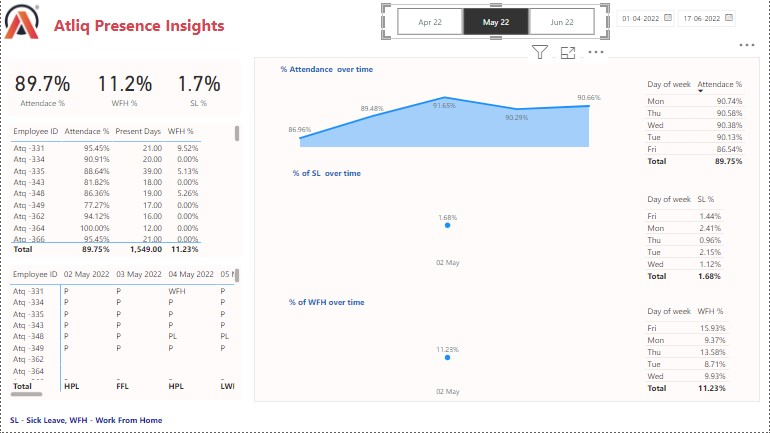

What the dashboard file says about the page in this screenshot:
{"tool":"powerbi","page":{"name":"Presence Insights","canvas":[1280,720],"ordinal":0},"visuals":[{"type":"card","fields":{"Values":["Measure Table.Attendace %"]},"box":[8.3,95,121.7,96.7],"z":0},{"type":"image","box":[0,0,70,71],"z":1000},{"type":"textbox","box":[70.3,0,320.1,71.1],"z":2000},{"type":"card","fields":{"Values":["Measure Table.WFH %"]},"box":[145,95,121.7,96.7],"z":3000},{"type":"card","fields":{"Values":["Measure Table.SL %"]},"box":[268.3,95,121.7,96.7],"z":4000},{"type":"tableEx","fields":{"Values":["Final Data.Employee ID","Measure Table.Attendace %","Measure Table.Present Days","Measure Table.WFH %"]},"box":[10,203.3,393.3,225],"z":5000},{"type":"pivotTable","fields":{"Rows":["Final Data.Employee ID"],"Columns":["Final Data.Date"],"Values":["Min(Final Data.Value)"]},"box":[10,441.7,393.3,225],"z":7000},{"type":"textbox","box":[10,686.7,288.3,28.3],"z":8000},{"type":"areaChart","fields":{"Category":["Final Data.WeekNo","Final Data.Date"],"Y":["Measure Table.Attendace %"]},"box":[445,143.3,588.3,106.7],"z":9000},{"type":"areaChart","fields":{"Category":["Final Data.MMM YY","Final Data.Date"],"Y":["Measure Table.SL %"]},"box":[445,301.7,588.3,153.3],"z":10000},{"type":"areaChart","fields":{"Category":["Final Data.MMM YY","Final Data.Date"],"Y":["Measure Table.WFH %"]},"box":[445,516.7,588.3,153.3],"z":11000},{"type":"textbox","box":[445,101.7,191.7,26.7],"z":12000},{"type":"textbox","box":[445,275,191.7,26.7],"z":13000},{"type":"textbox","box":[445,490,191.7,26.7],"z":14000},{"type":"tableEx","fields":{"Values":["Final Data.Day","Measure Table.Attendace %"]},"box":[1066.7,125,198.3,163.3],"z":15000},{"type":"tableEx","fields":{"Values":["Final Data.Day","Measure Table.SL %"]},"box":[1066.7,316.7,198.3,163.3],"z":16000},{"type":"tableEx","fields":{"Values":["Final Data.Day","Measure Table.WFH %"]},"box":[1066.7,503.3,198.3,163.3],"z":17000},{"type":"slicer","fields":{"Values":["Final Data.Date"]},"box":[1013.3,6.7,251.7,46.7],"z":18000},{"type":"slicer","fields":{"Values":["Final Data.MMM YY"]},"box":[635,6.7,378.3,58.3],"z":19000},{"type":"textbox","box":[10,100,390,91.7],"z":20000},{"type":"textbox","box":[10,206.7,393.3,221.7],"z":21000},{"type":"textbox","box":[421.7,95,843.3,575],"z":21500},{"type":"textbox","box":[10,441.7,390,225],"z":22000}]}

Visuals, with their boxes in screenshot pixels (x1, y1, x2, y2), scaled from the page's 1280x720 canvas onto the 770x433 screenshot:
card - Measure Table.Attendace %: box=[5, 57, 78, 115]
image: box=[0, 0, 42, 43]
textbox: box=[42, 0, 235, 43]
card - Measure Table.WFH %: box=[87, 57, 160, 115]
card - Measure Table.SL %: box=[161, 57, 235, 115]
tableEx - Final Data.Employee ID x Measure Table.Attendace %: box=[6, 122, 243, 258]
pivotTable - Final Data.Employee ID x Final Data.Date: box=[6, 266, 243, 401]
textbox: box=[6, 413, 179, 430]
areaChart - Final Data.WeekNo x Final Data.Date: box=[268, 86, 622, 150]
areaChart - Final Data.MMM YY x Final Data.Date: box=[268, 181, 622, 274]
areaChart - Final Data.MMM YY x Final Data.Date: box=[268, 311, 622, 403]
textbox: box=[268, 61, 383, 77]
textbox: box=[268, 165, 383, 181]
textbox: box=[268, 295, 383, 311]
tableEx - Final Data.Day x Measure Table.Attendace %: box=[642, 75, 761, 173]
tableEx - Final Data.Day x Measure Table.SL %: box=[642, 190, 761, 289]
tableEx - Final Data.Day x Measure Table.WFH %: box=[642, 303, 761, 401]
slicer - Final Data.Date: box=[610, 4, 761, 32]
slicer - Final Data.MMM YY: box=[382, 4, 610, 39]
textbox: box=[6, 60, 241, 115]
textbox: box=[6, 124, 243, 258]
textbox: box=[254, 57, 761, 403]
textbox: box=[6, 266, 241, 401]
